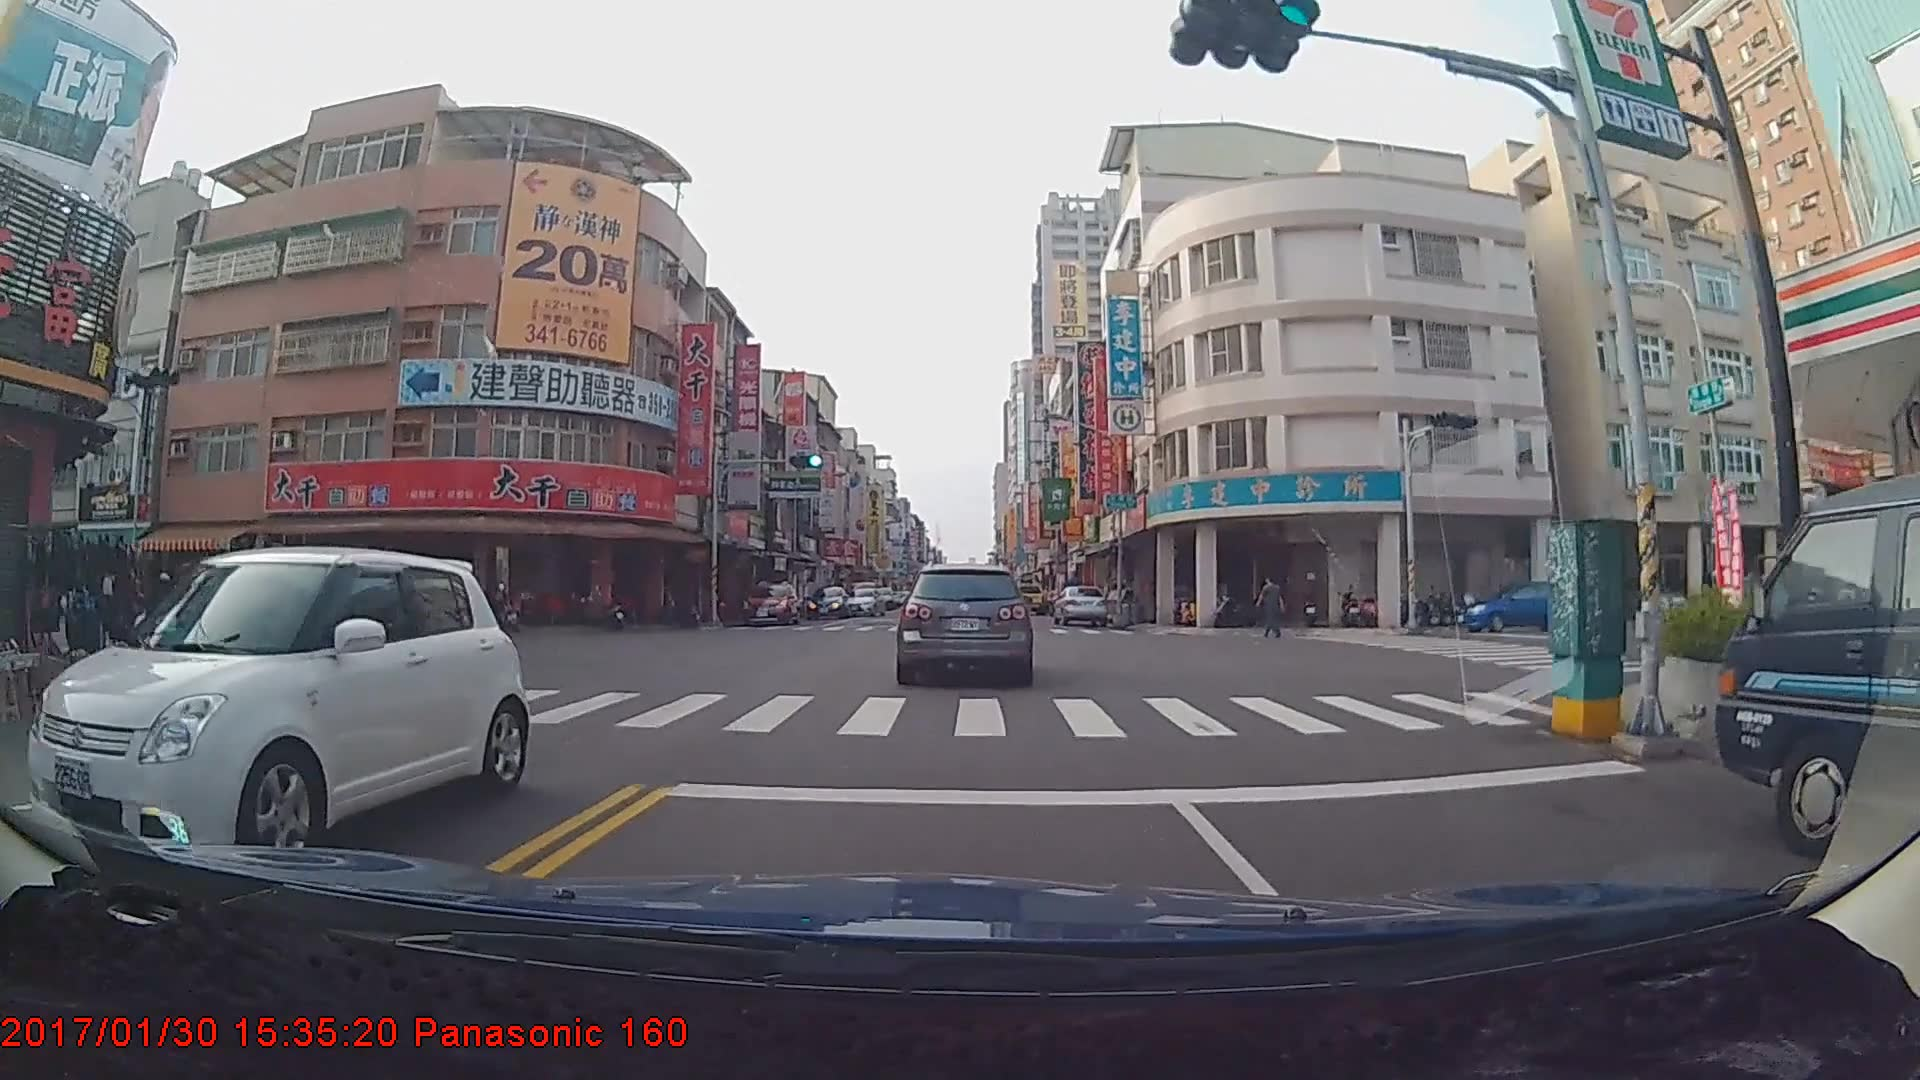pedestrian: (1257, 575, 1286, 642)
vehicle: (30, 543, 529, 863), (1714, 457, 1920, 909), (896, 564, 1032, 686), (1456, 579, 1587, 632), (744, 578, 800, 625), (1050, 580, 1109, 623), (805, 581, 850, 615), (840, 584, 884, 613), (1009, 581, 1046, 615)
